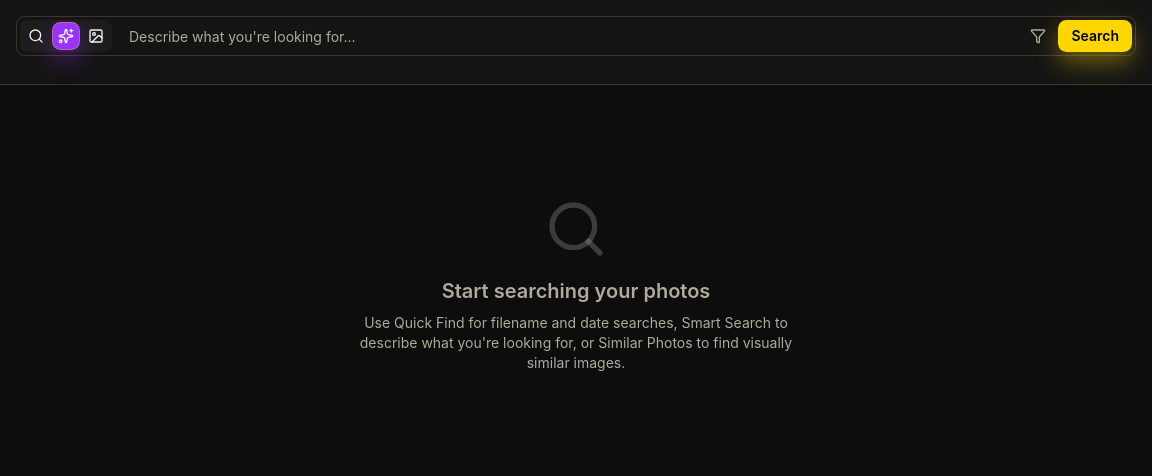
Test: SearchPage Component › handles thumbnail errors
Type "test" into the field with placeholder "Describe what you're looking for..." at (576, 36), box [16,16,1136,56]
Then press Enter
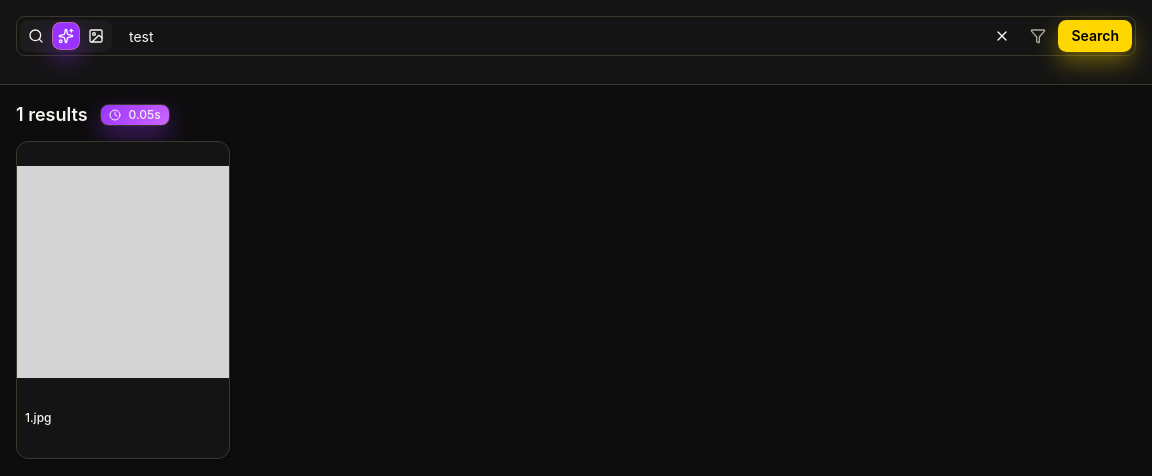
Check: the heading "1 results" is shown, box [16,101,88,129]
